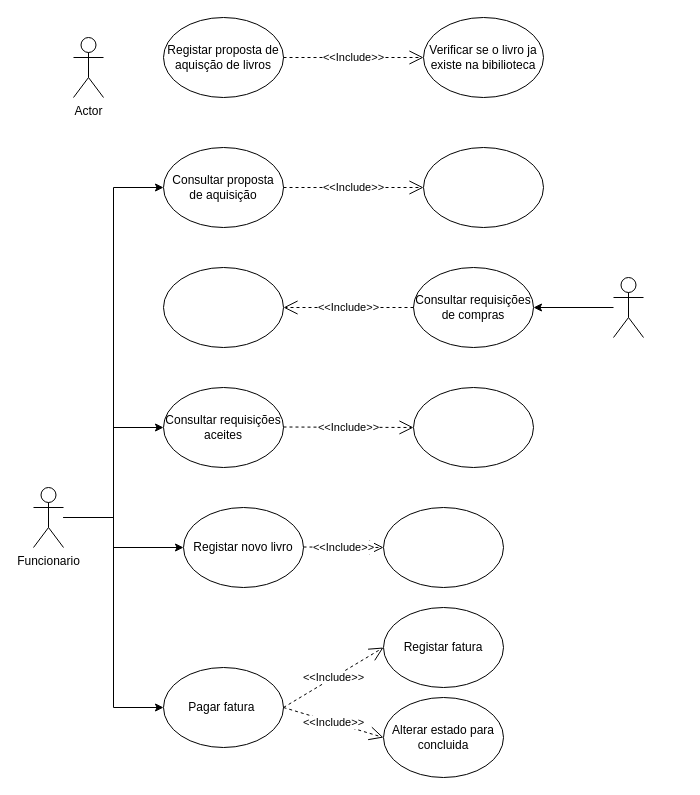
Image size: 700x795. Some labels were removed from this diagram. Here are the shapes that lost their labels. From the top down, the centre of each, then its label:
the point at 483,187: registar requisição da aquisição
the point at 223,307: Alterar Estado da requisição
the point at 628,307: Direção da empresa
the point at 473,427: registar encomenda
the point at 443,547: Disponibilizar novo livro
